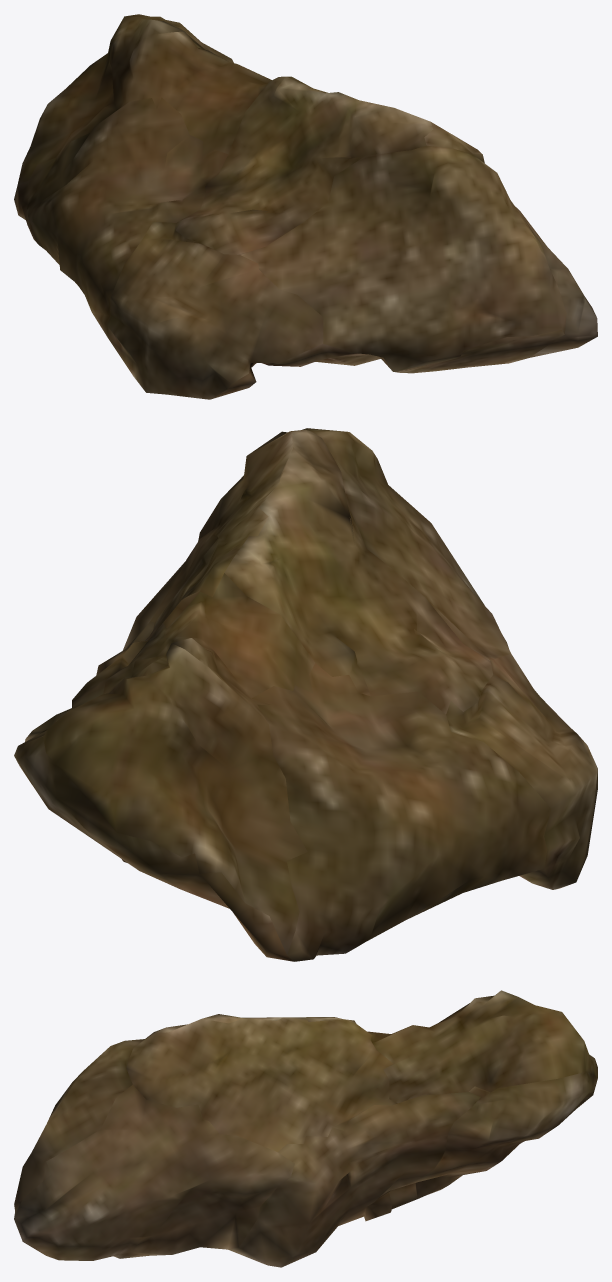
File: rock_moss_set_01_0.glb
3 views of the same model, one above another, from view 1: azimuth 30°, elevation 25°; view 2: azimuth 150°, elevation 25°; view 3: azimuth 270°, elevation 25° (orthographic). The views are drawn at different scales.
Size of the model in its own units: 2.24 by 1.47 by 3.36.
Materials: 1 (1 with a texture image).
